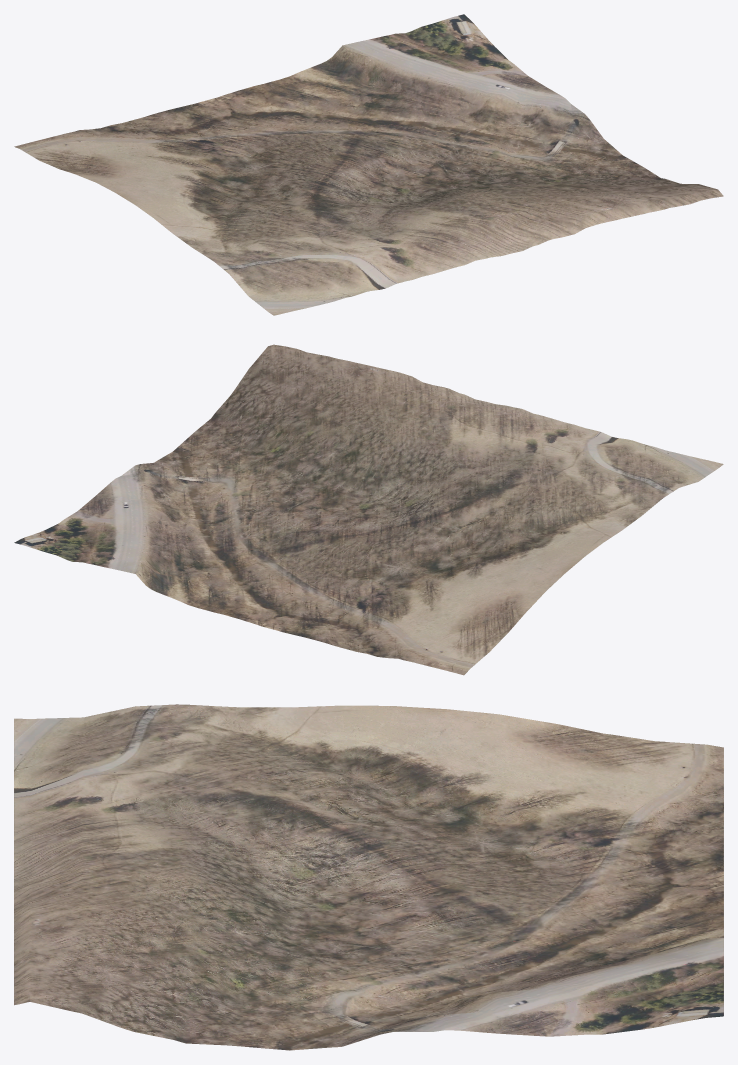
The model's file is CM_Terrain_24491687_6817951.fbx.
3 renders of one model, top to bottom at view 1: azimuth 30°, elevation 25°; view 2: azimuth 150°, elevation 25°; view 3: azimuth 270°, elevation 25°, orthographic. The views are drawn at different scales.
Visible parts, largest first — view 1: CM_Terrain_24491687_6817951_LOD0; view 2: CM_Terrain_24491687_6817951_LOD0; view 3: CM_Terrain_24491687_6817951_LOD0.
Part boxes in pixels (left/top/right/bottom): CM_Terrain_24491687_6817951_LOD0: left=14, top=14, right=723, bottom=315; CM_Terrain_24491687_6817951_LOD0: left=14, top=344, right=723, bottom=675; CM_Terrain_24491687_6817951_LOD0: left=14, top=704, right=723, bottom=1050.
Size of what is drawn, in the model's own units: 205 by 18.93 by 205.
